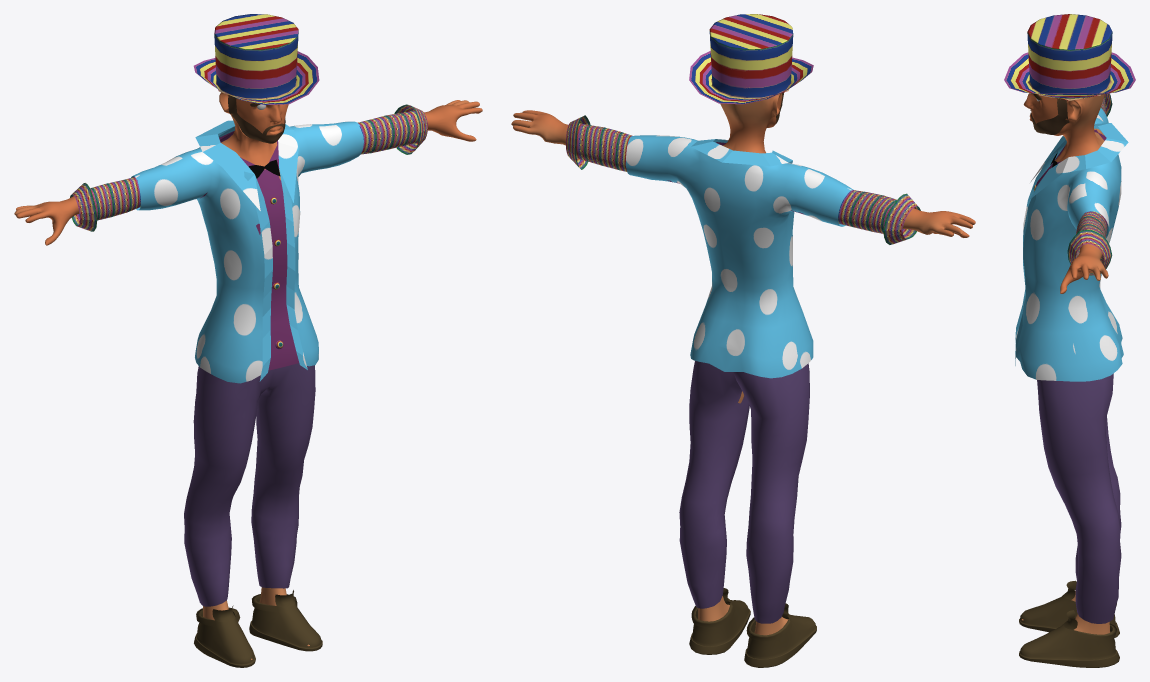
Rendered from Mago.fbx.
3 views of the same model, side by side, from view 1: azimuth 30°, elevation 25°; view 2: azimuth 150°, elevation 25°; view 3: azimuth 270°, elevation 25° (orthographic).
Parts seen in each view (by area): view 1: prensa_personaje_director11, prensa_personaje_director12, prensa_personaje_director14, pCylinder2, prensa_personaje_director6, pCube1, prensa_personaje_director13; view 2: prensa_personaje_director11, prensa_personaje_director12, pCylinder2, prensa_personaje_director6, prensa_personaje_director14, pCube1; view 3: prensa_personaje_director11, prensa_personaje_director12, pCylinder2, pCube1, prensa_personaje_director6, prensa_personaje_director14, prensa_personaje_director13.
Boxes of the visible parts, <box> form: prensa_personaje_director11: <box>131,120,363,383</box>; prensa_personaje_director12: <box>184,363,315,606</box>; prensa_personaje_director14: <box>70,104,427,370</box>; pCylinder2: <box>193,14,319,105</box>; prensa_personaje_director6: <box>14,92,482,660</box>; pCube1: <box>194,590,322,667</box>; prensa_personaje_director13: <box>228,95,285,143</box>; prensa_personaje_director11: <box>625,135,853,378</box>; prensa_personaje_director12: <box>679,361,809,623</box>; pCylinder2: <box>689,14,813,104</box>; prensa_personaje_director6: <box>511,93,975,635</box>; prensa_personaje_director14: <box>566,115,920,244</box>; pCube1: <box>689,588,816,667</box>; prensa_personaje_director11: <box>1015,108,1128,381</box>; prensa_personaje_director12: <box>1037,373,1121,623</box>; pCylinder2: <box>1004,14,1135,100</box>; pCube1: <box>1019,580,1119,667</box>; prensa_personaje_director6: <box>1021,93,1110,634</box>; prensa_personaje_director14: <box>1036,93,1112,275</box>; prensa_personaje_director13: <box>1030,98,1069,134</box>.
Size of the model in its own units: 12.63 by 16.07 by 3.13.
